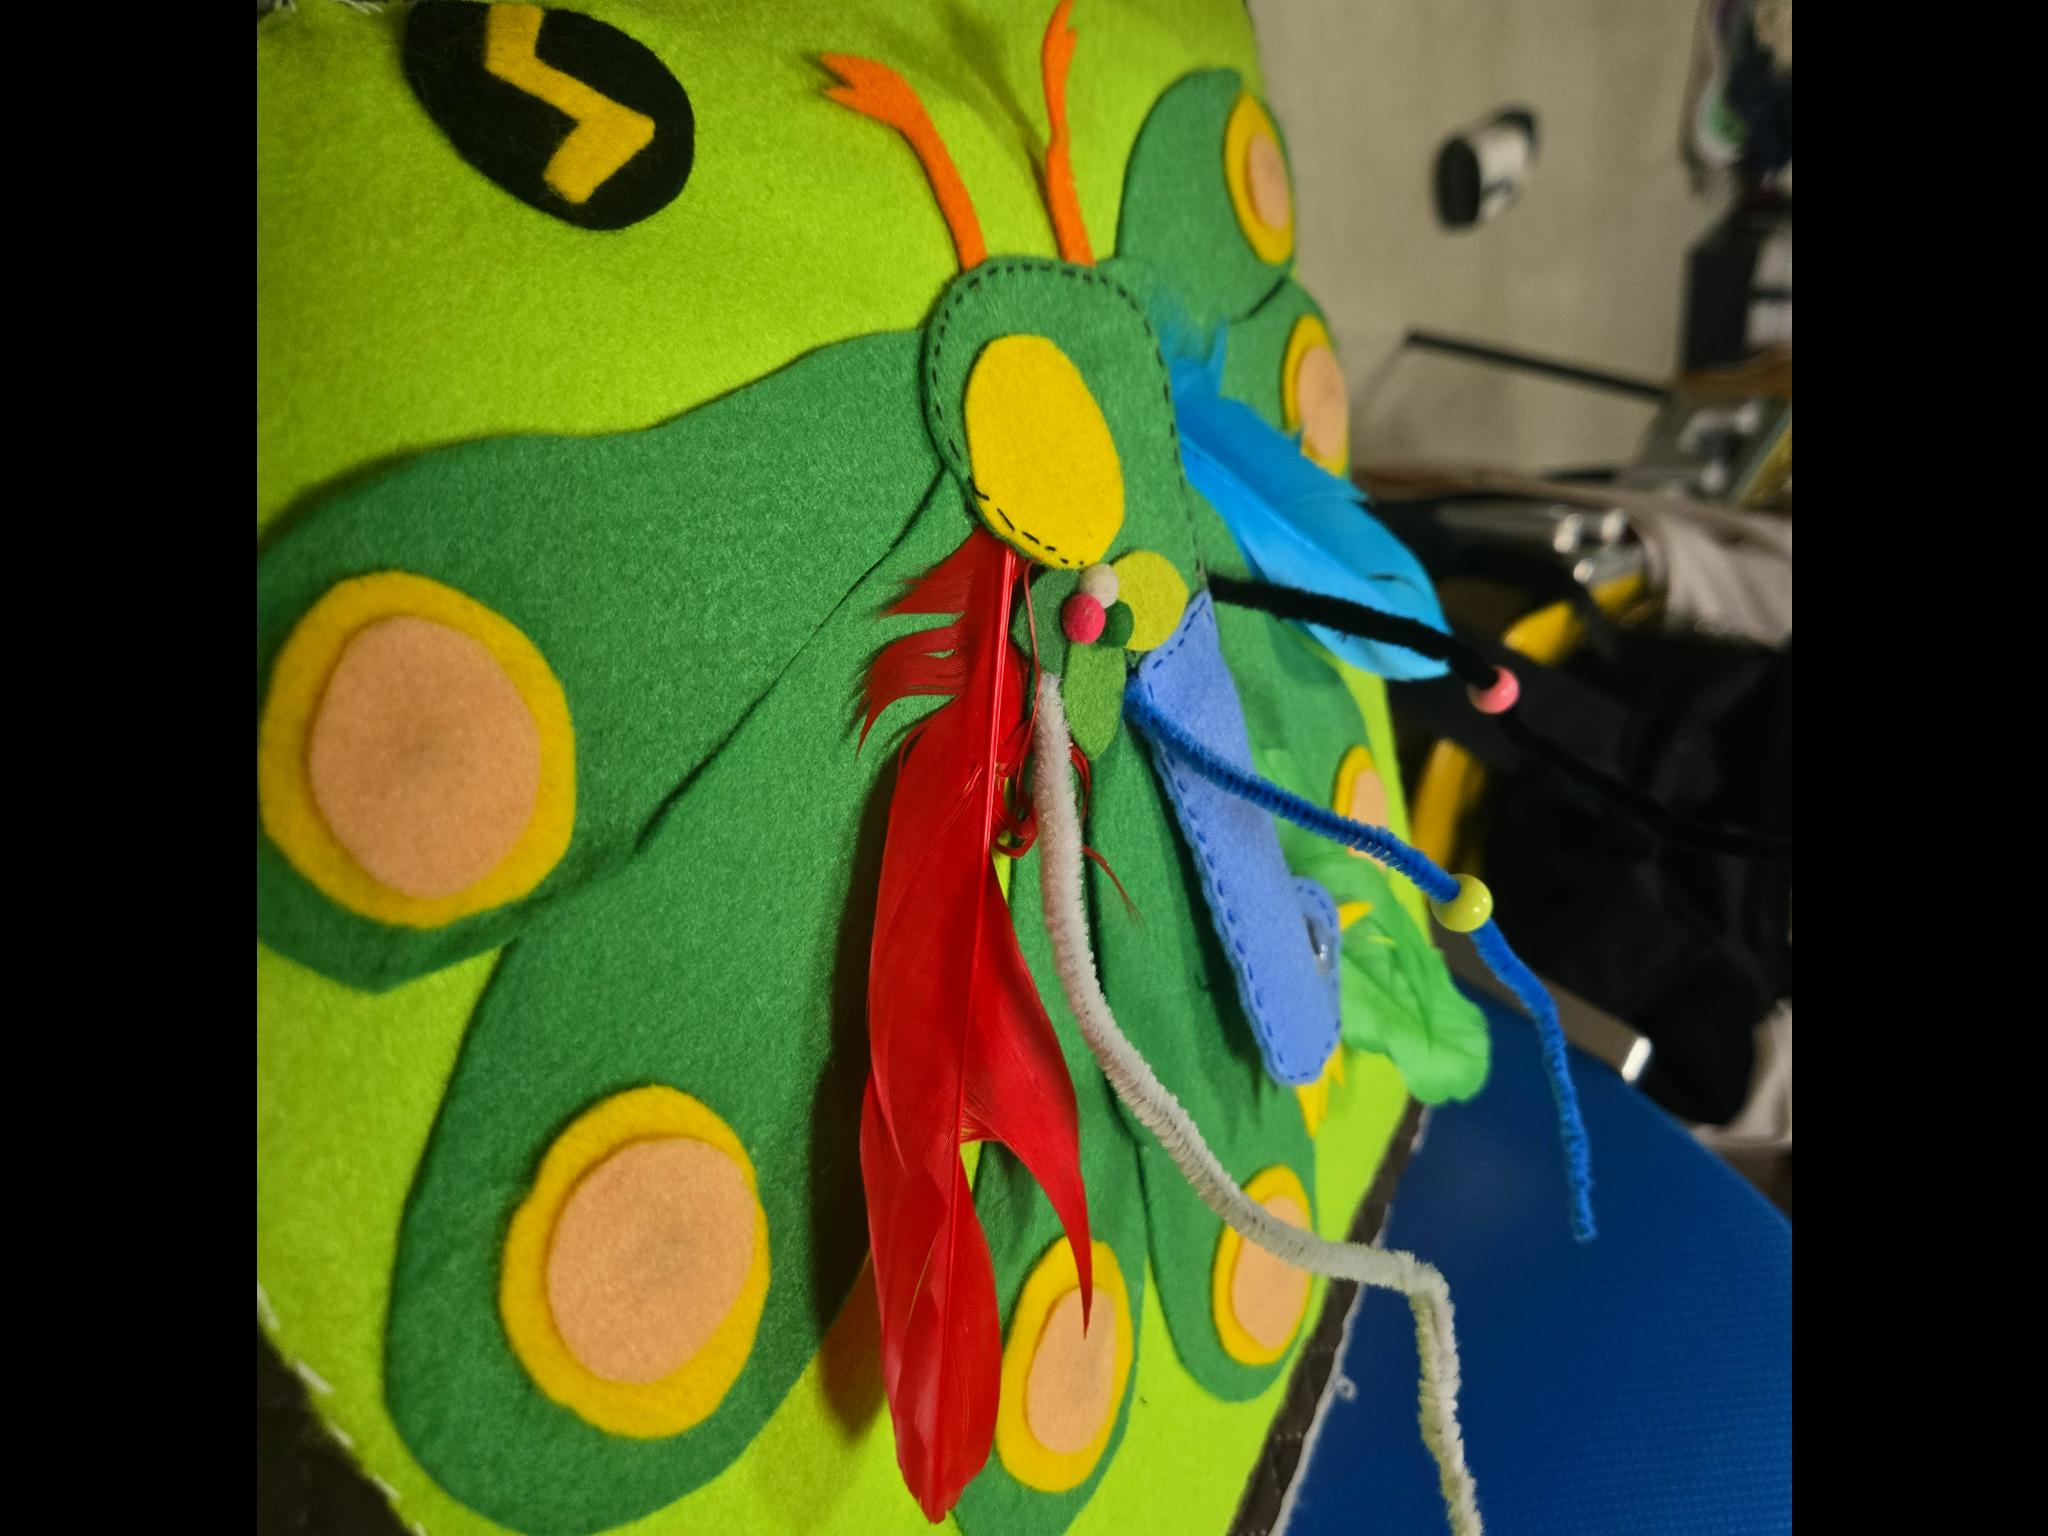bead: (1416, 873, 1505, 939), (1458, 663, 1537, 728)
